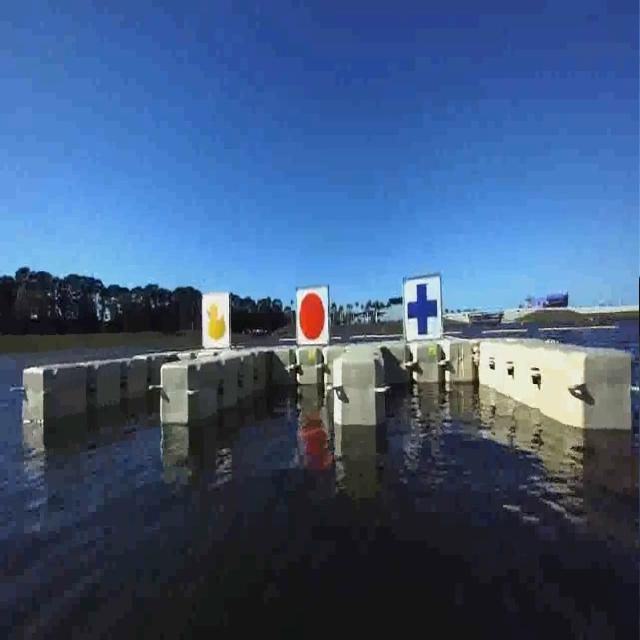blue-cross: (403, 277, 441, 339)
red-dot: (294, 283, 333, 344)
yellow-duck: (202, 295, 232, 351)
